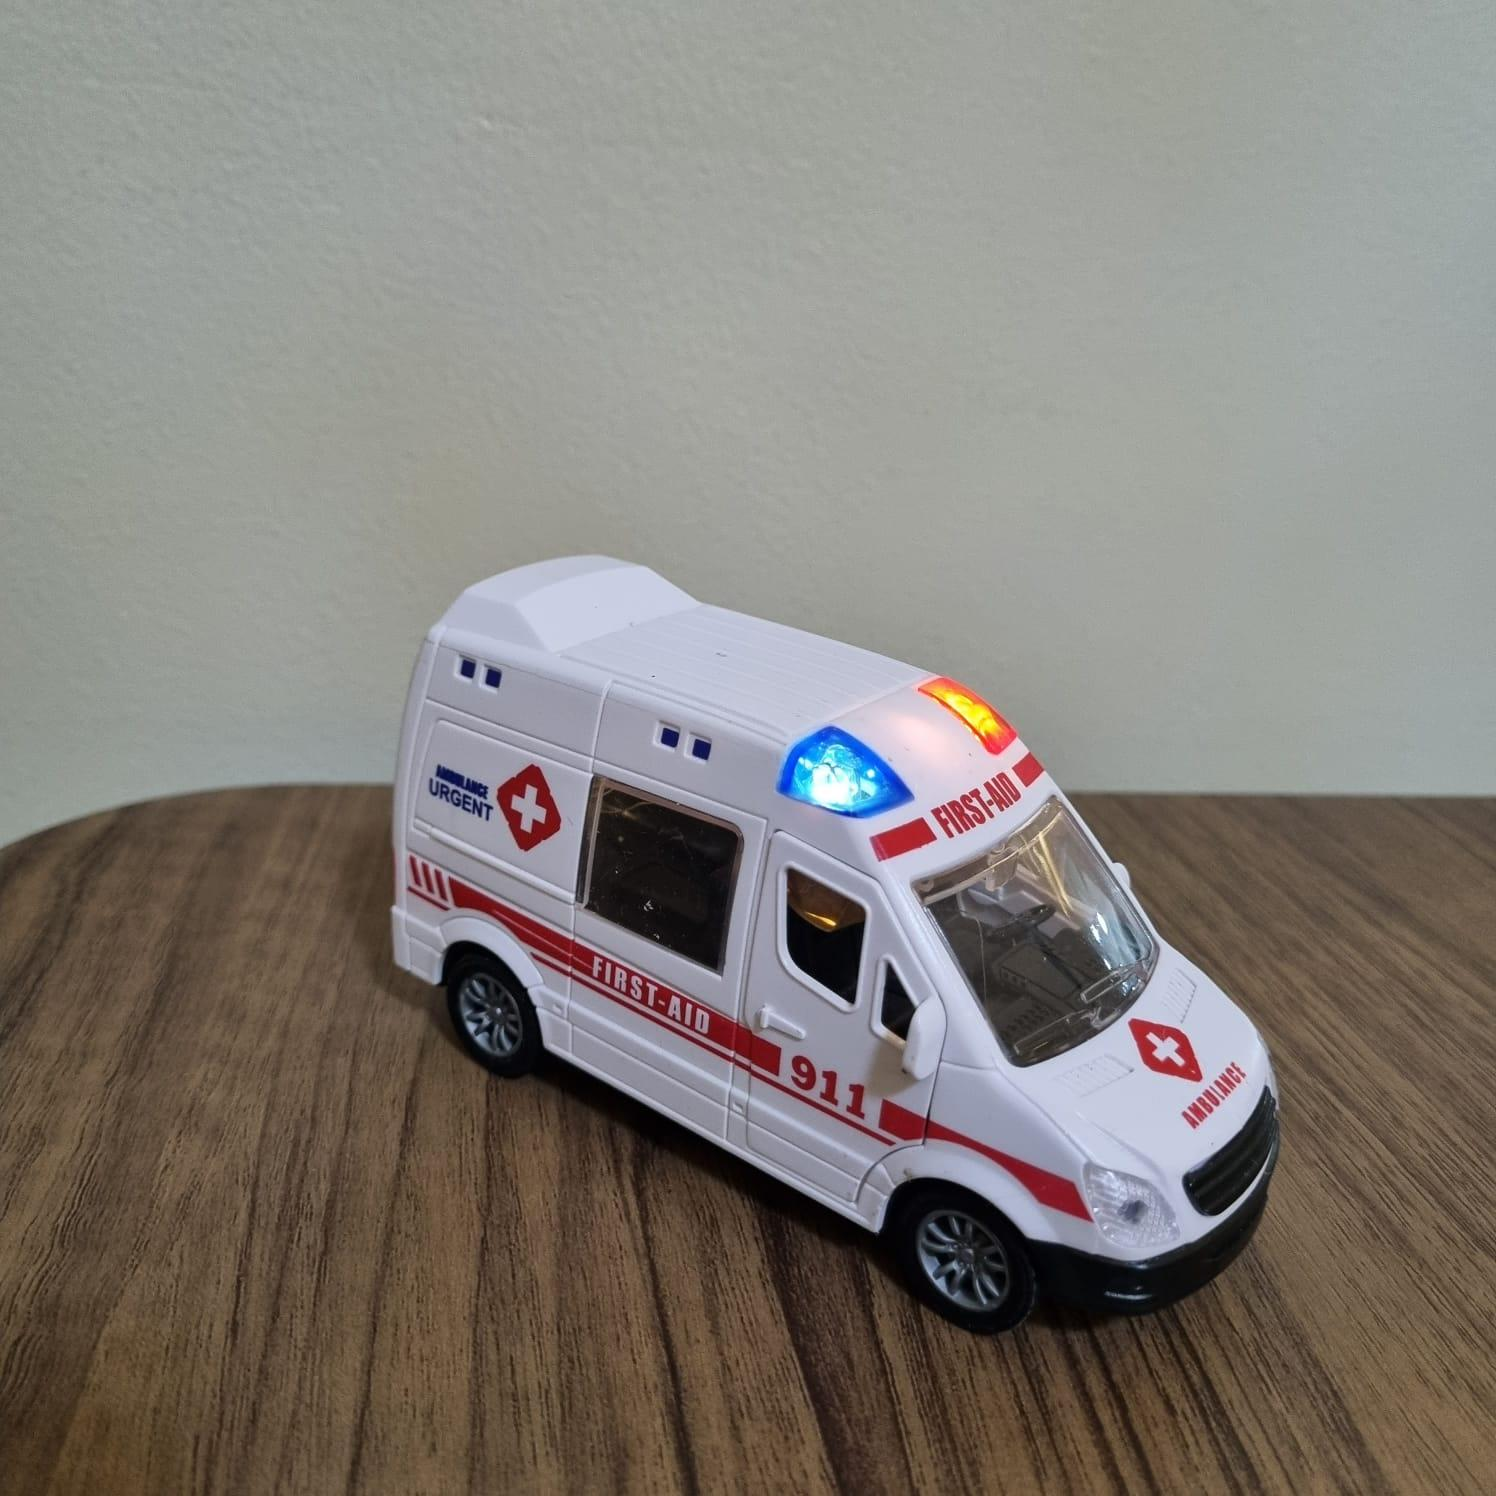ambulance_on: (392, 551, 1281, 1337)
